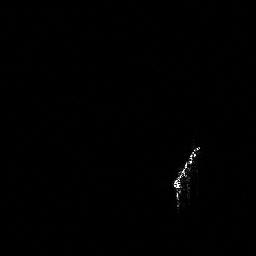ship: (168, 143, 202, 213)
